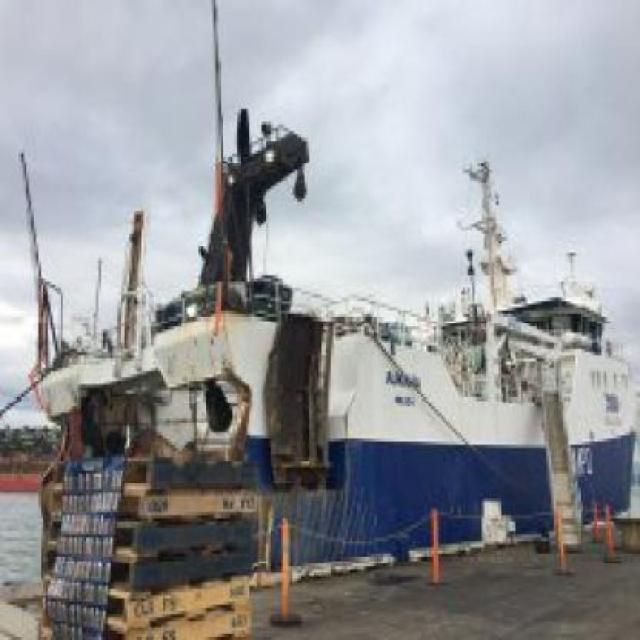fish-b: (8, 142, 639, 580)
